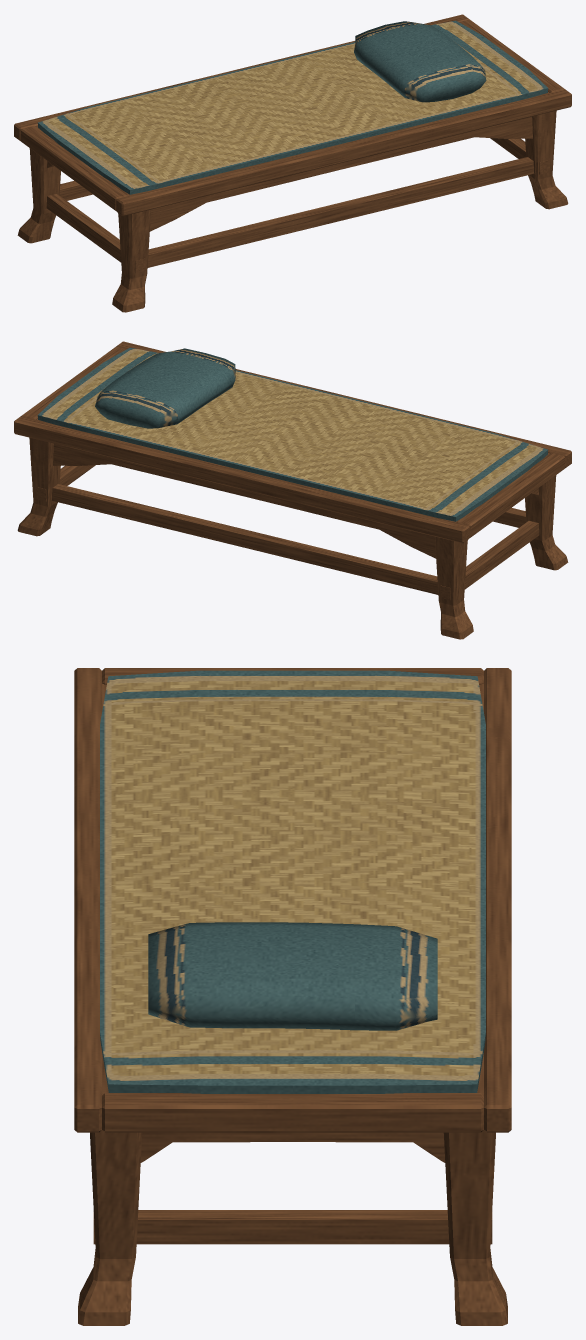
The model's file is WakeCot.fbx.
3 renders of one model, top to bottom at view 1: azimuth 30°, elevation 25°; view 2: azimuth 150°, elevation 25°; view 3: azimuth 270°, elevation 25°, orthographic. The views are drawn at different scales.
Visible parts, largest first — view 1: WakeCot; view 2: WakeCot; view 3: WakeCot.
Part boxes in pixels (left/top/right/bottom): WakeCot: left=14, top=14, right=571, bottom=312; WakeCot: left=14, top=341, right=571, bottom=639; WakeCot: left=74, top=668, right=511, bottom=1325.
Size of the model in its own units: 2.45 by 0.7337 by 1.03.
